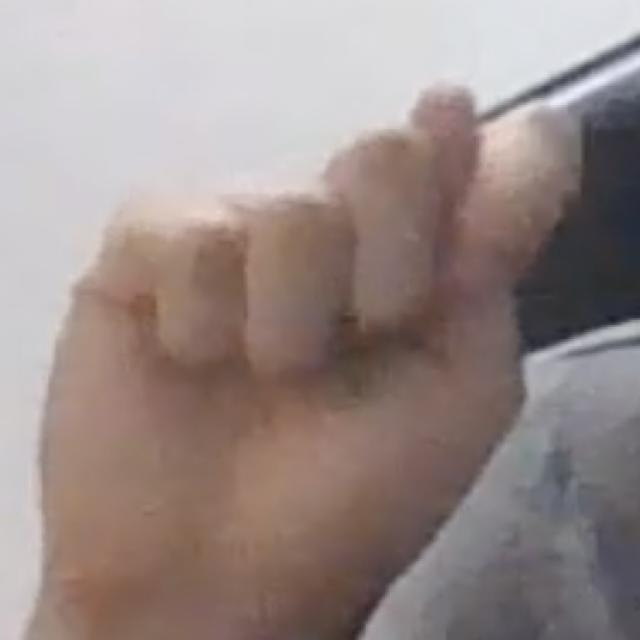T: (21, 74, 600, 618)
